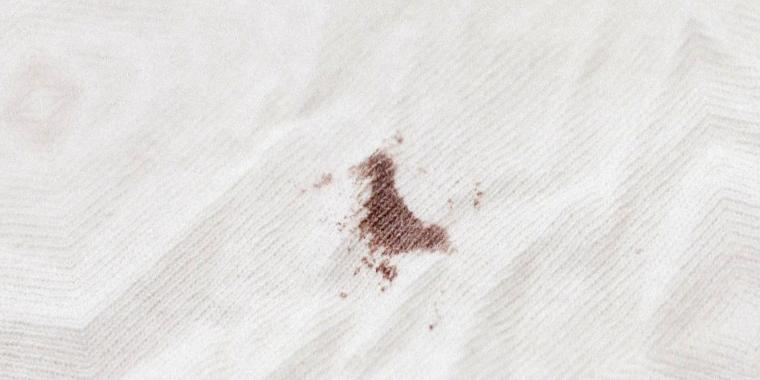stain: (350, 143, 458, 286)
